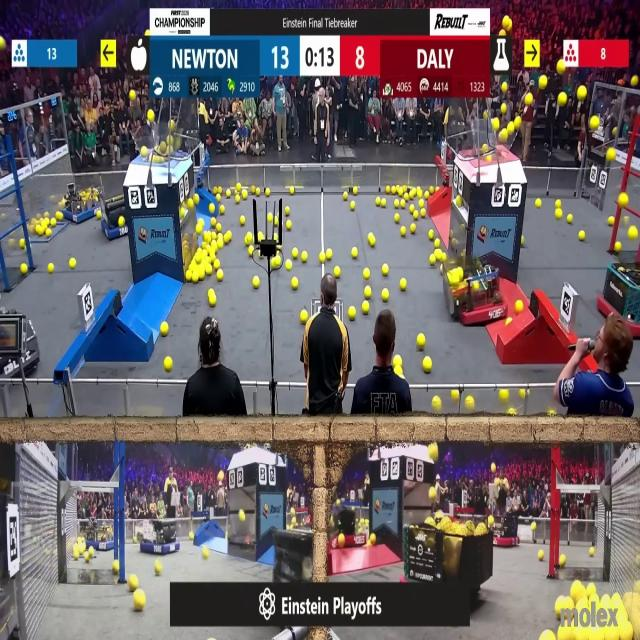ball_airborne: (428, 445, 438, 460), (590, 115, 600, 129), (620, 194, 629, 208), (481, 143, 491, 155), (502, 16, 510, 30), (499, 130, 507, 144), (558, 61, 566, 75), (558, 94, 567, 106), (629, 228, 638, 240), (577, 88, 585, 101), (538, 76, 546, 89), (606, 148, 614, 160), (525, 94, 533, 106), (428, 488, 436, 500), (140, 146, 148, 157), (492, 118, 499, 129), (130, 91, 137, 102), (501, 82, 508, 93), (632, 75, 639, 86), (152, 154, 161, 162), (507, 121, 514, 131), (148, 110, 154, 121), (170, 119, 176, 130), (516, 117, 522, 128), (167, 144, 173, 154), (500, 104, 506, 113), (169, 137, 175, 145), (611, 129, 617, 137), (491, 463, 496, 472), (500, 31, 506, 38), (484, 111, 489, 118), (495, 479, 500, 486)
ball_ground: (134, 592, 146, 612), (130, 574, 138, 590), (499, 388, 508, 402), (418, 335, 426, 350), (165, 356, 173, 371), (423, 357, 431, 371), (272, 256, 281, 268), (432, 396, 440, 409), (466, 396, 474, 409), (543, 631, 554, 640), (556, 603, 563, 617), (209, 293, 217, 305), (162, 322, 170, 334), (252, 277, 260, 289), (382, 288, 389, 301), (154, 561, 161, 574), (299, 311, 306, 324), (339, 534, 346, 547), (393, 356, 402, 366), (291, 278, 298, 290), (517, 302, 524, 314), (349, 308, 356, 320), (195, 197, 202, 209), (394, 365, 402, 375), (246, 233, 252, 246), (216, 271, 223, 282), (382, 266, 389, 277), (364, 287, 371, 298), (559, 556, 566, 567), (302, 251, 309, 262), (362, 303, 368, 315), (399, 279, 405, 291), (113, 561, 119, 573), (70, 260, 76, 272), (368, 235, 374, 247), (363, 270, 370, 280), (291, 248, 298, 258), (285, 262, 292, 272), (452, 390, 459, 400), (22, 266, 29, 276), (239, 512, 246, 522), (434, 250, 441, 260), (36, 224, 43, 234), (335, 268, 341, 279), (224, 233, 230, 244), (326, 249, 332, 260), (369, 534, 375, 545), (191, 273, 197, 284), (578, 232, 584, 242), (616, 242, 622, 252), (204, 550, 210, 560), (556, 210, 562, 220), (248, 246, 254, 256), (257, 233, 263, 243), (320, 252, 326, 262), (399, 226, 405, 236), (184, 272, 190, 282), (429, 255, 435, 265), (200, 270, 206, 280), (0, 37, 5, 49), (195, 223, 201, 233), (206, 266, 212, 276), (456, 198, 462, 208), (589, 548, 595, 558), (84, 554, 90, 564), (188, 200, 194, 210), (381, 200, 388, 208), (204, 233, 211, 241), (47, 265, 53, 274), (566, 214, 572, 223), (556, 200, 562, 209), (608, 216, 614, 225), (219, 206, 225, 215), (520, 389, 526, 398), (18, 240, 24, 249), (286, 220, 292, 229), (419, 200, 425, 209), (350, 202, 356, 211), (236, 194, 242, 203), (274, 216, 280, 225), (218, 240, 224, 249), (212, 232, 218, 241), (58, 212, 64, 221), (390, 185, 396, 194), (414, 211, 420, 220), (352, 248, 357, 258), (538, 551, 543, 561), (443, 252, 448, 262), (418, 188, 423, 198), (507, 410, 514, 417), (394, 214, 400, 222), (535, 200, 541, 208), (240, 216, 246, 224), (428, 232, 434, 240), (421, 209, 427, 217), (214, 262, 220, 270), (284, 207, 290, 215), (274, 234, 280, 242), (188, 532, 194, 540), (90, 546, 96, 554), (45, 230, 51, 238), (242, 190, 248, 198), (202, 241, 208, 249), (211, 240, 217, 248), (237, 183, 243, 191), (269, 213, 274, 222), (210, 205, 215, 214), (410, 206, 416, 213), (276, 250, 282, 257), (394, 200, 399, 208), (211, 218, 216, 226), (400, 200, 405, 208), (216, 223, 221, 231), (434, 240, 439, 248), (424, 190, 429, 198), (200, 218, 205, 226), (386, 185, 391, 193), (74, 552, 79, 560), (532, 522, 536, 531), (225, 190, 230, 197), (505, 318, 510, 325), (289, 187, 294, 194), (50, 218, 55, 225), (133, 536, 138, 543), (113, 577, 118, 584), (412, 224, 416, 232), (344, 191, 348, 199), (377, 199, 381, 207), (267, 188, 271, 196), (216, 193, 220, 200), (520, 238, 524, 245), (403, 192, 407, 199), (353, 188, 357, 195), (256, 188, 260, 195)
goal: (126, 127, 186, 160), (467, 125, 516, 162)
robot_blue: (0, 308, 38, 382), (61, 183, 100, 224), (139, 520, 179, 555), (101, 195, 128, 241), (84, 522, 114, 550)
robot_red: (444, 257, 501, 325), (603, 259, 640, 338), (331, 502, 367, 549), (491, 514, 520, 546)
